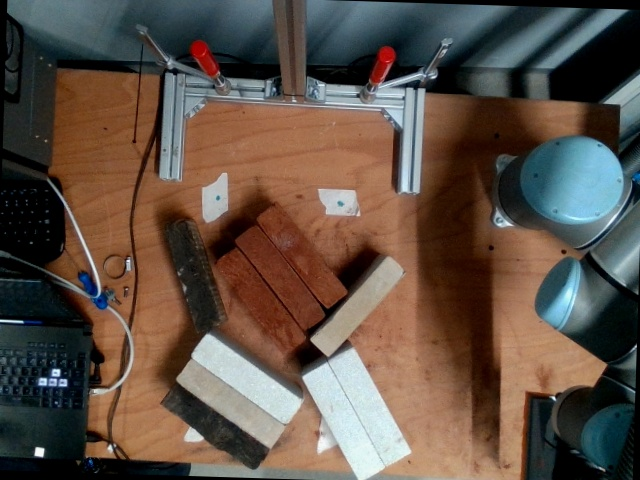brick-side: (256, 204, 345, 307), (215, 250, 304, 353), (235, 227, 323, 330), (194, 337, 299, 423), (175, 360, 280, 446), (313, 258, 404, 354), (304, 367, 381, 477), (163, 386, 266, 468), (332, 353, 408, 463), (167, 222, 216, 328)
